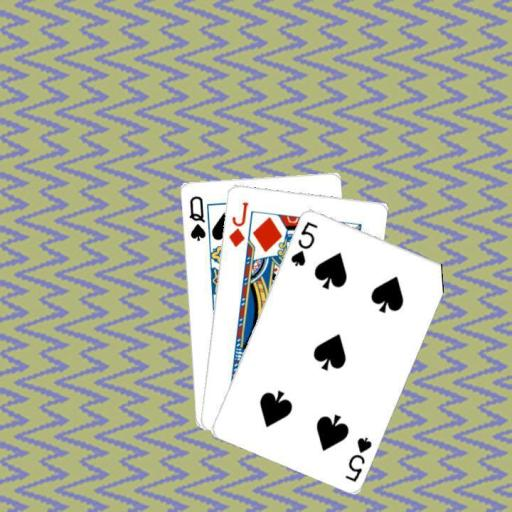card-corner: (287, 218, 319, 268), (342, 433, 373, 483), (224, 198, 250, 248), (185, 192, 206, 242)
